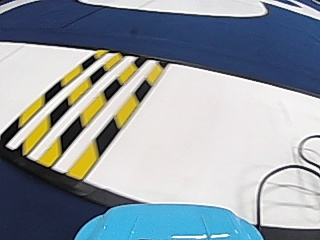bump: (16, 63, 118, 147)
